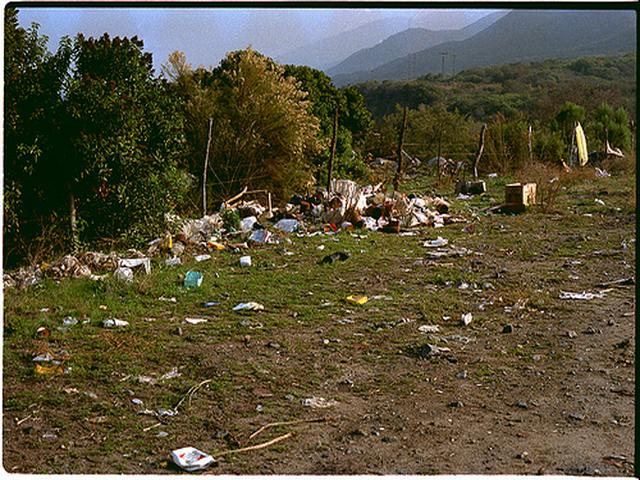garbage: (300, 190, 440, 229)
